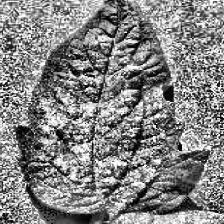spider mites: (14, 0, 209, 212)
